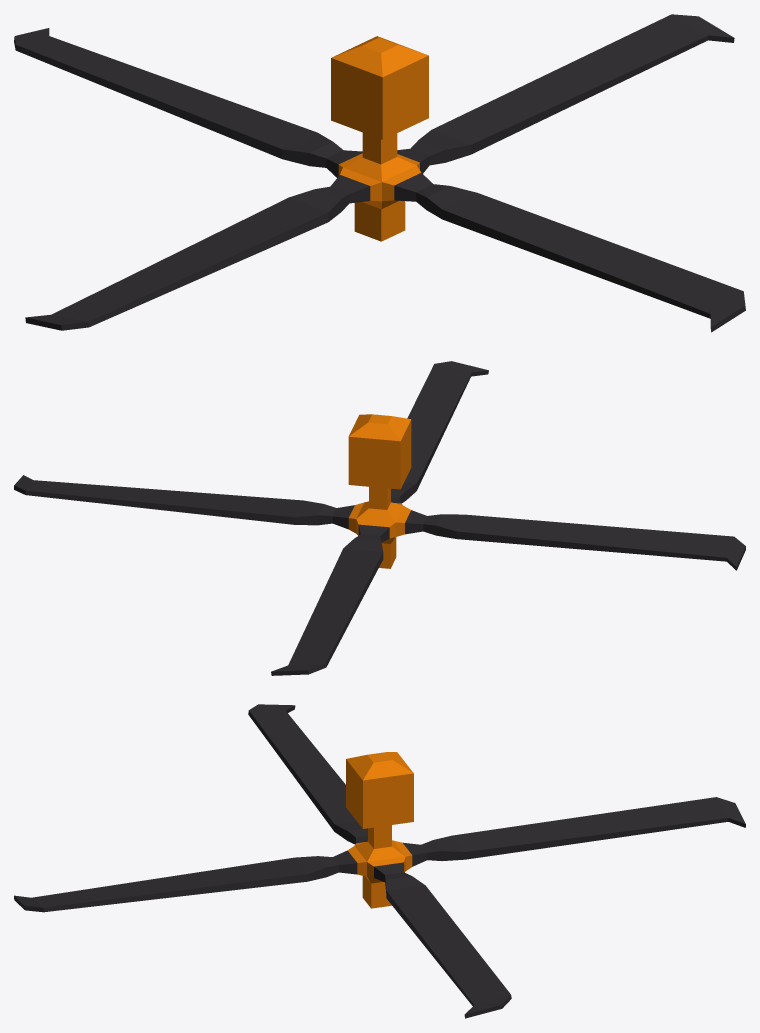
File: helicopter_BOSS_2.fbx
3 renders of one model, top to bottom at view 1: azimuth 30°, elevation 25°; view 2: azimuth 150°, elevation 25°; view 3: azimuth 270°, elevation 25°, orthographic. The views are drawn at different scales.
Visible parts, largest first — view 1: polySurface2357; view 2: polySurface2357; view 3: polySurface2357.
Boxes of the visible parts, x1,y1,x2,y2 form: polySurface2357: (14, 14, 745, 332); polySurface2357: (14, 361, 745, 675); polySurface2357: (14, 704, 745, 1018).
Size of the model in its own units: 525 by 114 by 525.
